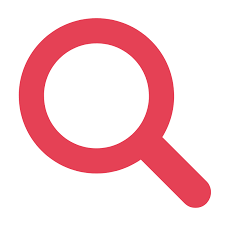searchIcon: (17, 16, 211, 207)
